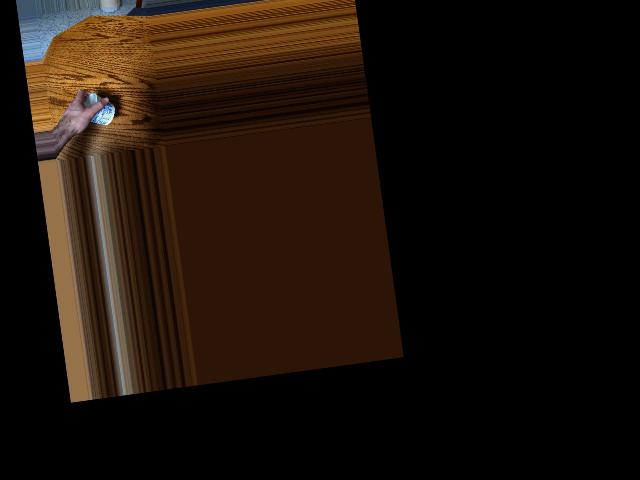cotage: (83, 89, 115, 125)
